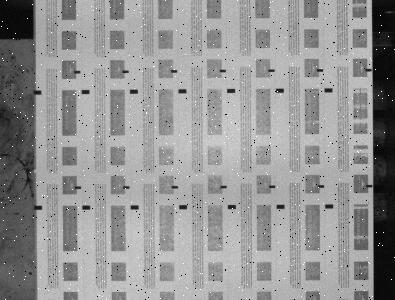backgroundclutter: (29, 272, 32, 275)
qblock: (34, 205, 42, 210), (130, 89, 138, 94), (179, 205, 188, 209), (325, 204, 334, 208), (131, 205, 139, 209), (82, 205, 90, 209), (277, 204, 285, 208), (228, 205, 236, 209), (227, 89, 235, 93), (276, 88, 284, 92), (179, 89, 187, 93), (34, 90, 42, 94), (82, 90, 90, 94), (325, 88, 333, 92)
smallqblock: (366, 184, 373, 188), (269, 185, 276, 188), (123, 186, 130, 189), (268, 69, 275, 72), (122, 70, 129, 73), (171, 70, 178, 73), (318, 185, 324, 188), (75, 186, 81, 189), (221, 185, 227, 188), (172, 186, 178, 189), (317, 69, 323, 72), (220, 69, 226, 72), (74, 70, 80, 73), (366, 69, 372, 72)
